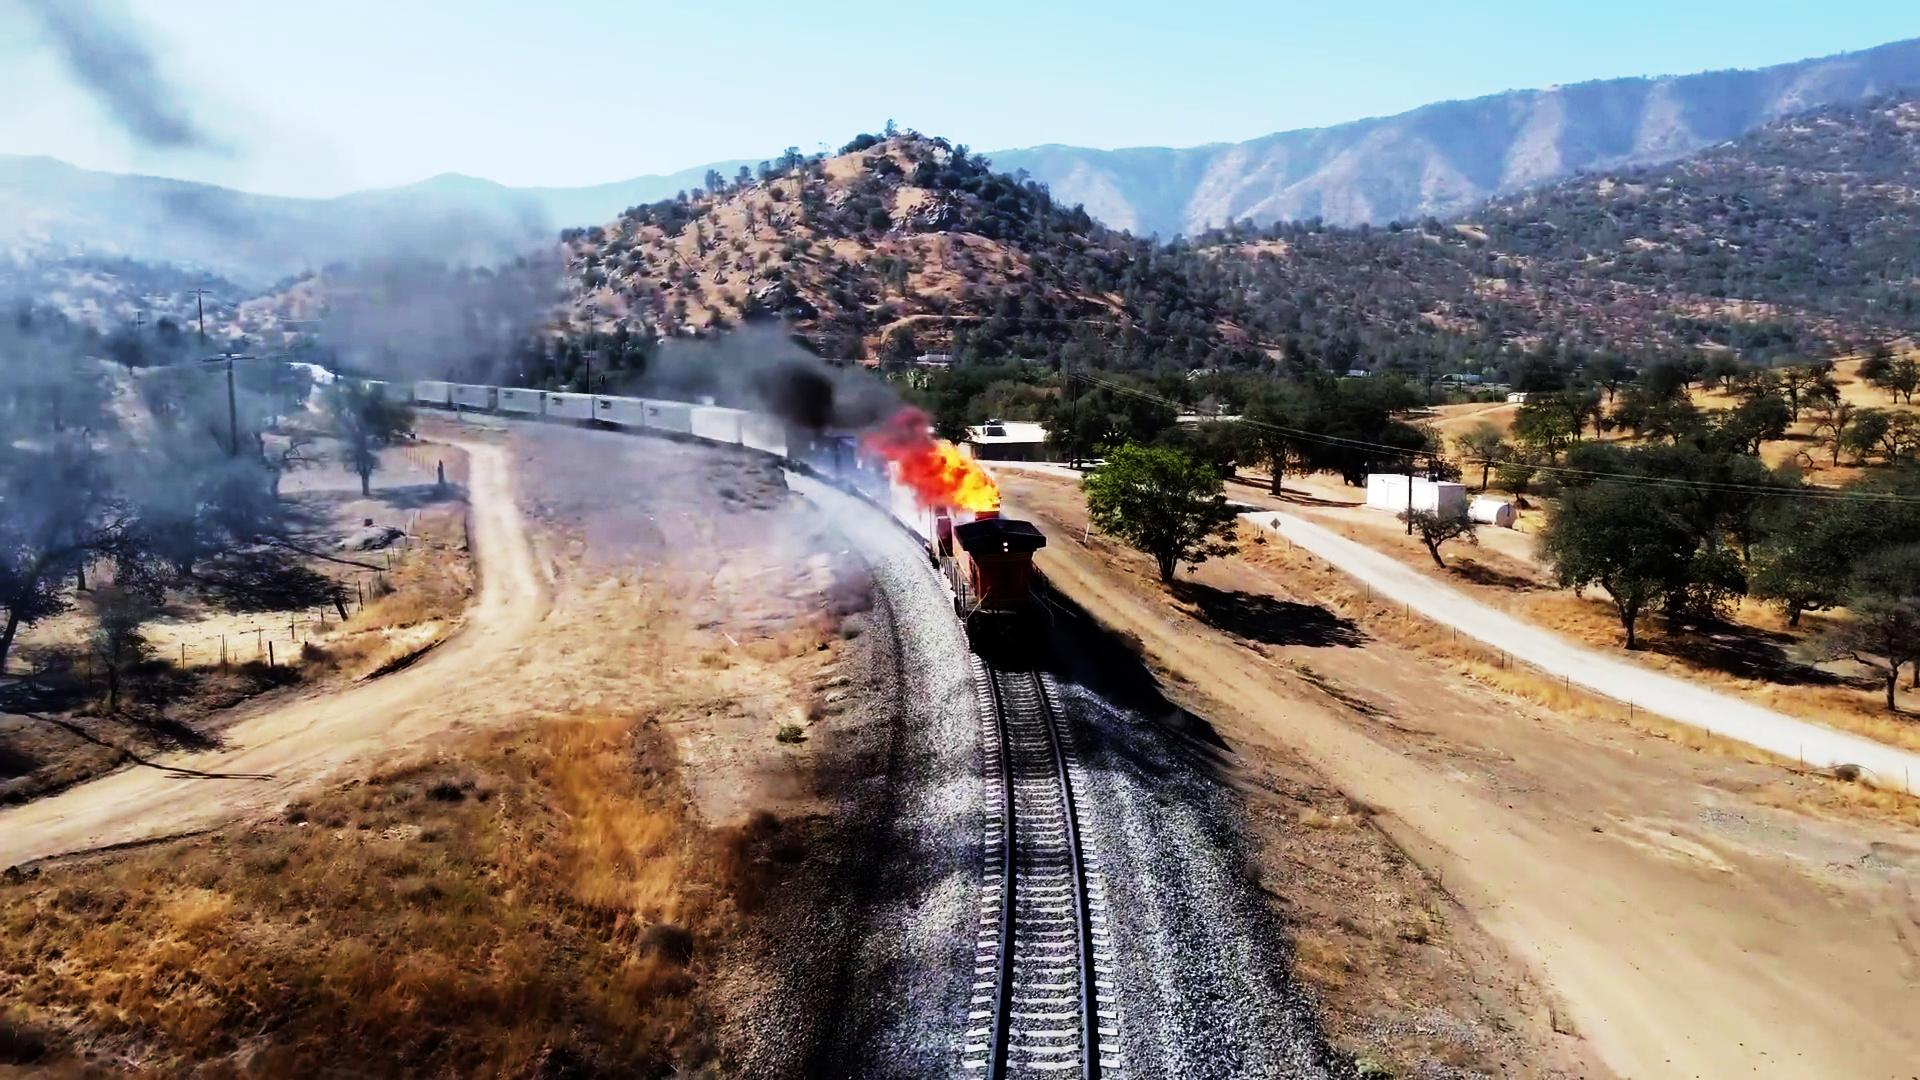fire: (887, 425, 1001, 518)
smoke: (662, 306, 791, 402), (771, 365, 885, 447)
